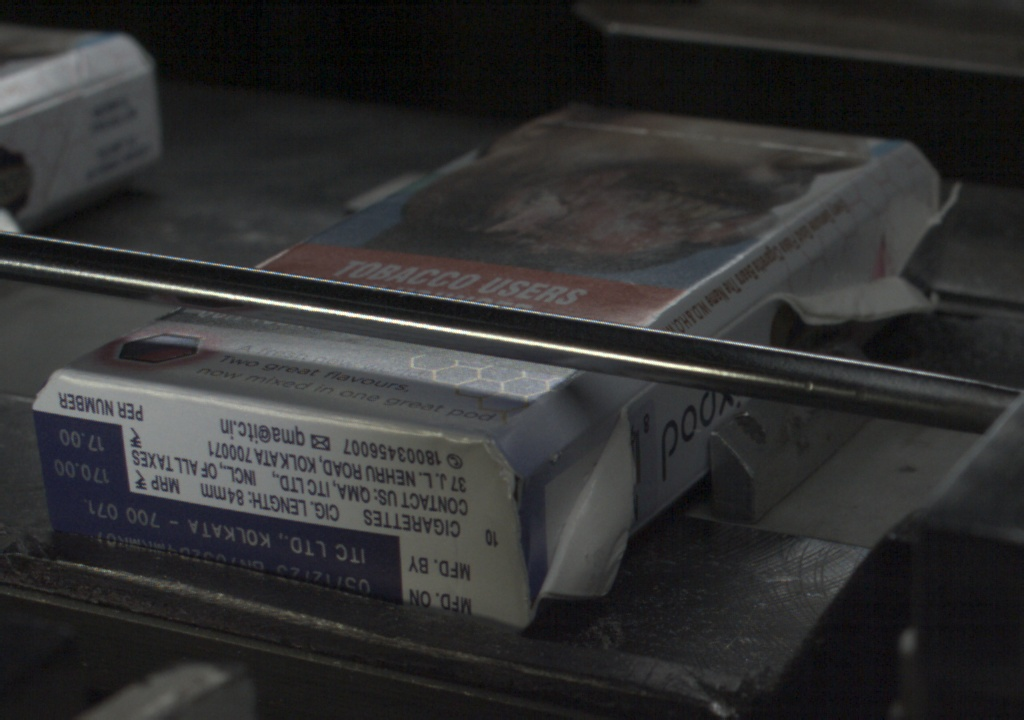g_label: (43, 493, 400, 597)
ng_bottom: (464, 434, 526, 554)
ng_lmiter: (530, 410, 635, 604), (832, 247, 936, 328), (759, 266, 834, 330)
ng_miter: (899, 172, 962, 229)
price: (37, 419, 131, 491)
